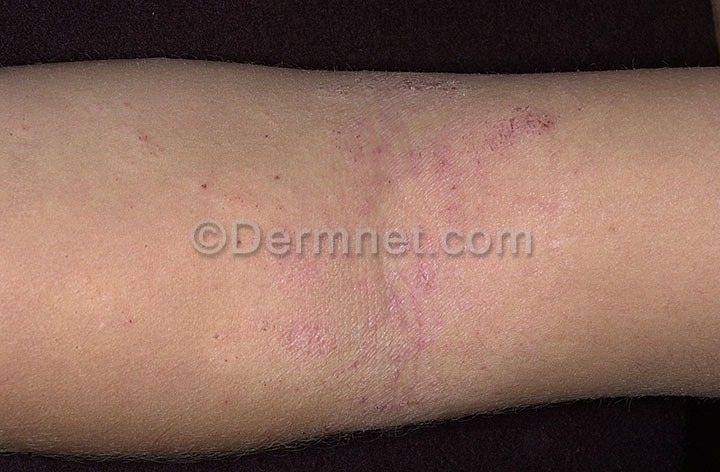Eczema: (195, 65, 568, 432), (73, 298, 174, 361), (110, 107, 169, 179)
